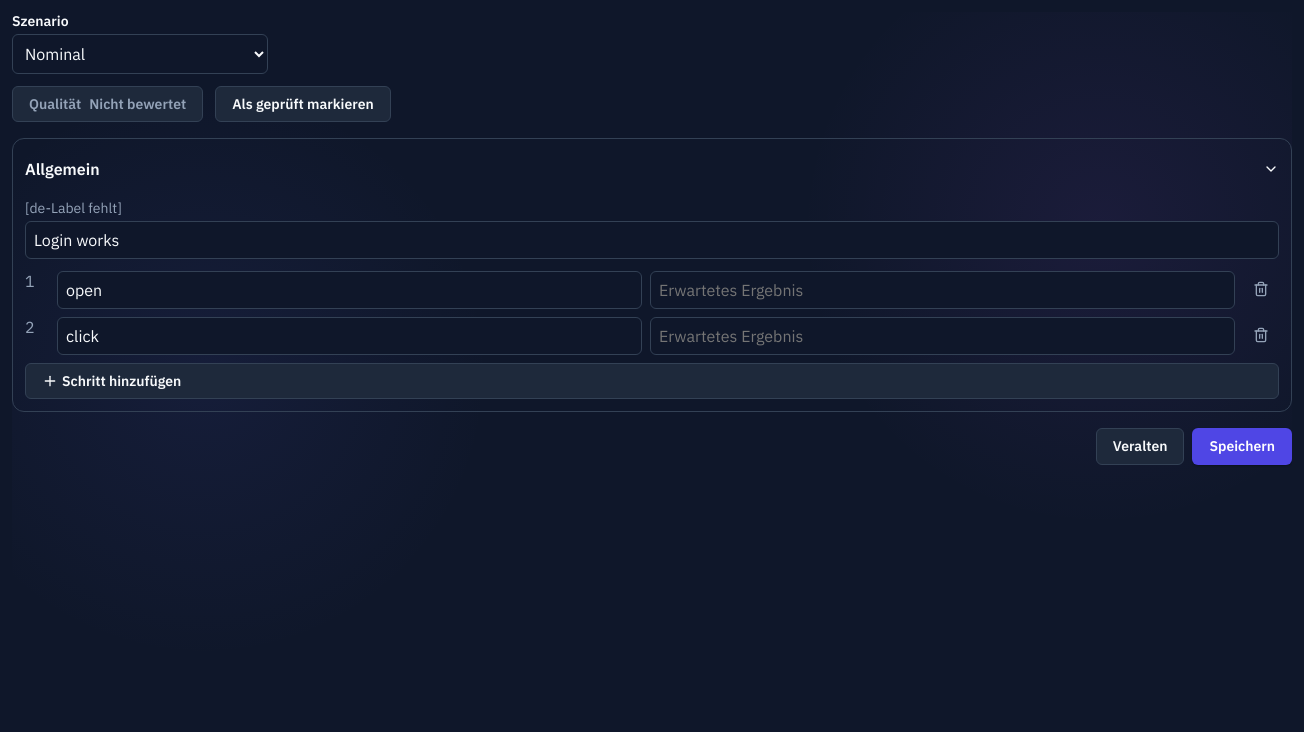
Test: TestCaseArtifactForm › renders the steps editor and appends a step
The image size is (1304, 732).
Expected: the element with test id "artifact-widget-steps" is shown, [25,271,1279,399]
Expected: the field with test id "artifact-widget-steps-step-0" holds "open", [57,271,642,309]
Click the button with test id "artifact-widget-steps-add" at [122, 381], box [25,363,1279,399]
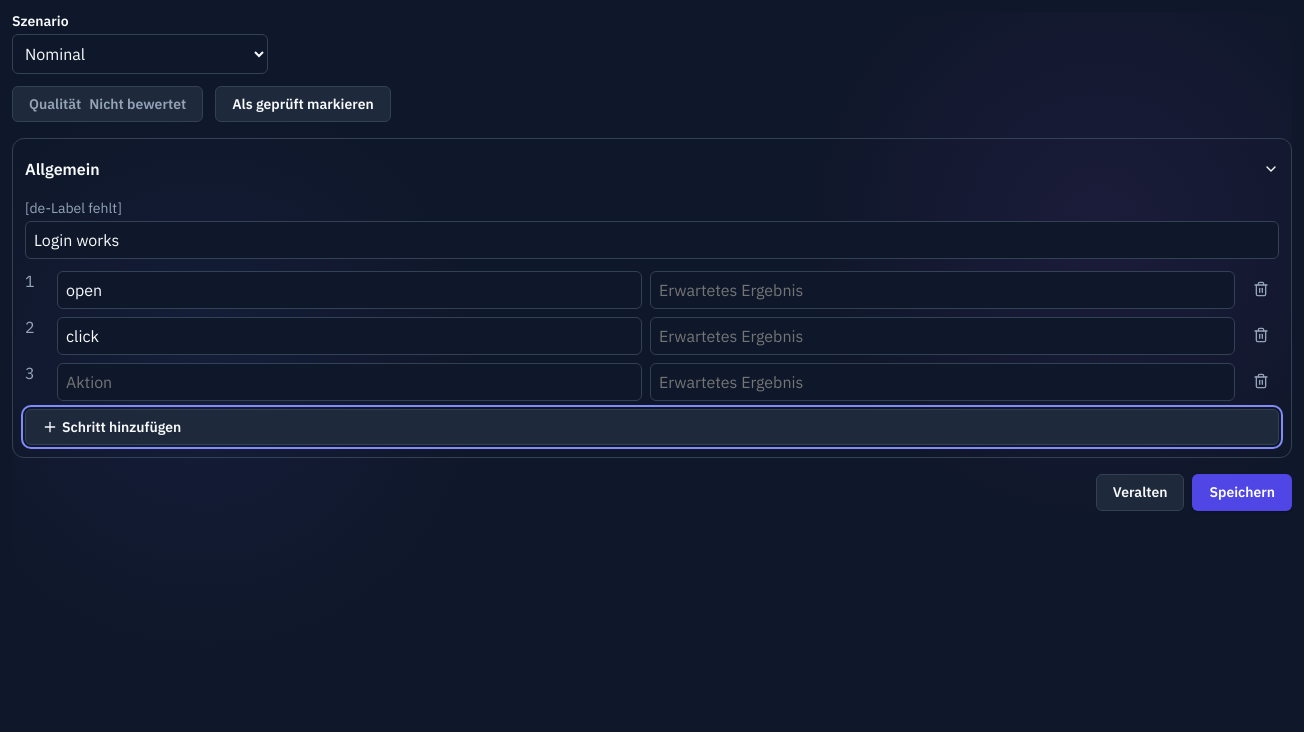
Expected: the field with test id "artifact-widget-steps-step-2" is shown, [57,363,642,401]
